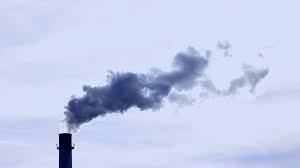smoke: (53, 39, 276, 133)
